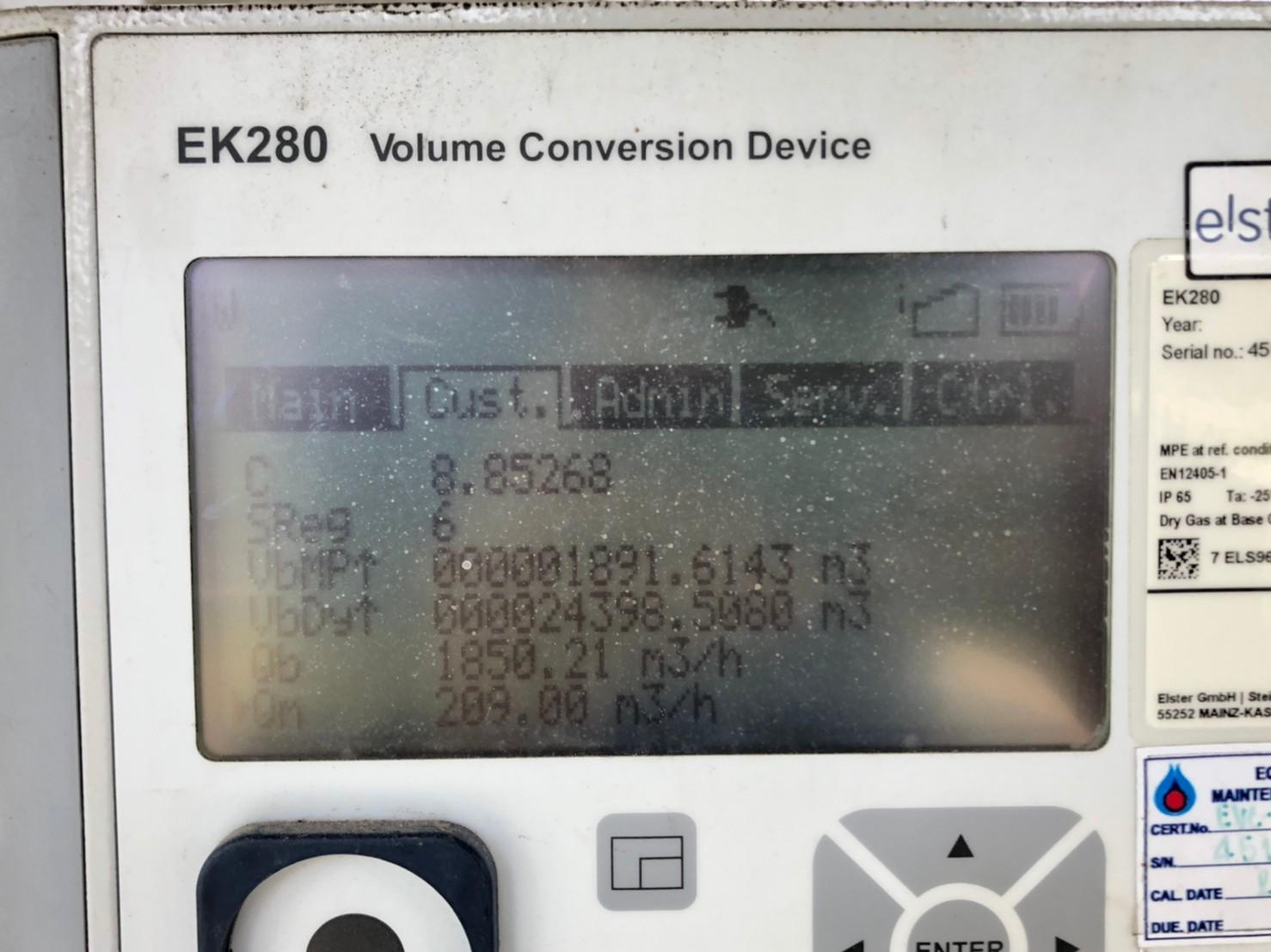digital_screen: (187, 260, 1116, 758)
